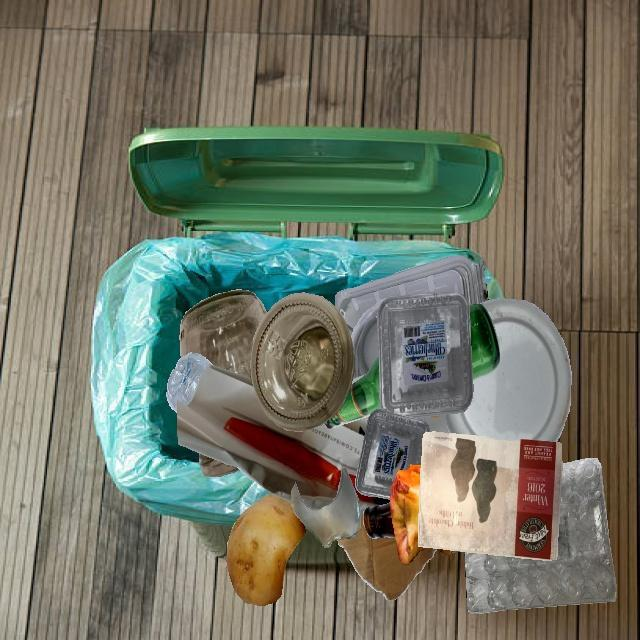biowaste: (226, 494, 306, 606), (390, 464, 428, 564)
cardboard: (337, 513, 437, 600)
glass: (250, 292, 354, 432), (179, 290, 267, 379), (291, 468, 361, 548), (325, 356, 382, 429), (469, 304, 500, 382), (363, 503, 395, 539)
paper: (177, 364, 390, 514), (418, 432, 562, 561), (346, 323, 354, 338)
plastic: (464, 458, 617, 614), (444, 298, 572, 442), (377, 292, 473, 418), (335, 255, 488, 329), (355, 409, 430, 500), (166, 352, 214, 413), (351, 298, 386, 379)
